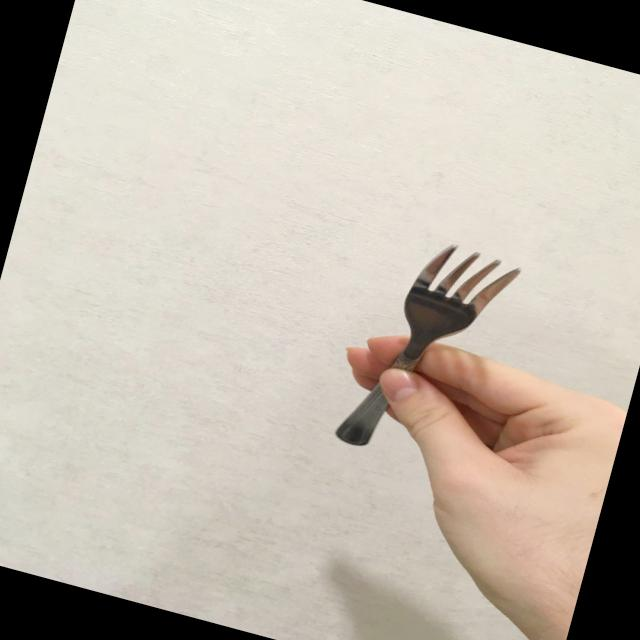fork: (332, 226, 526, 478)
